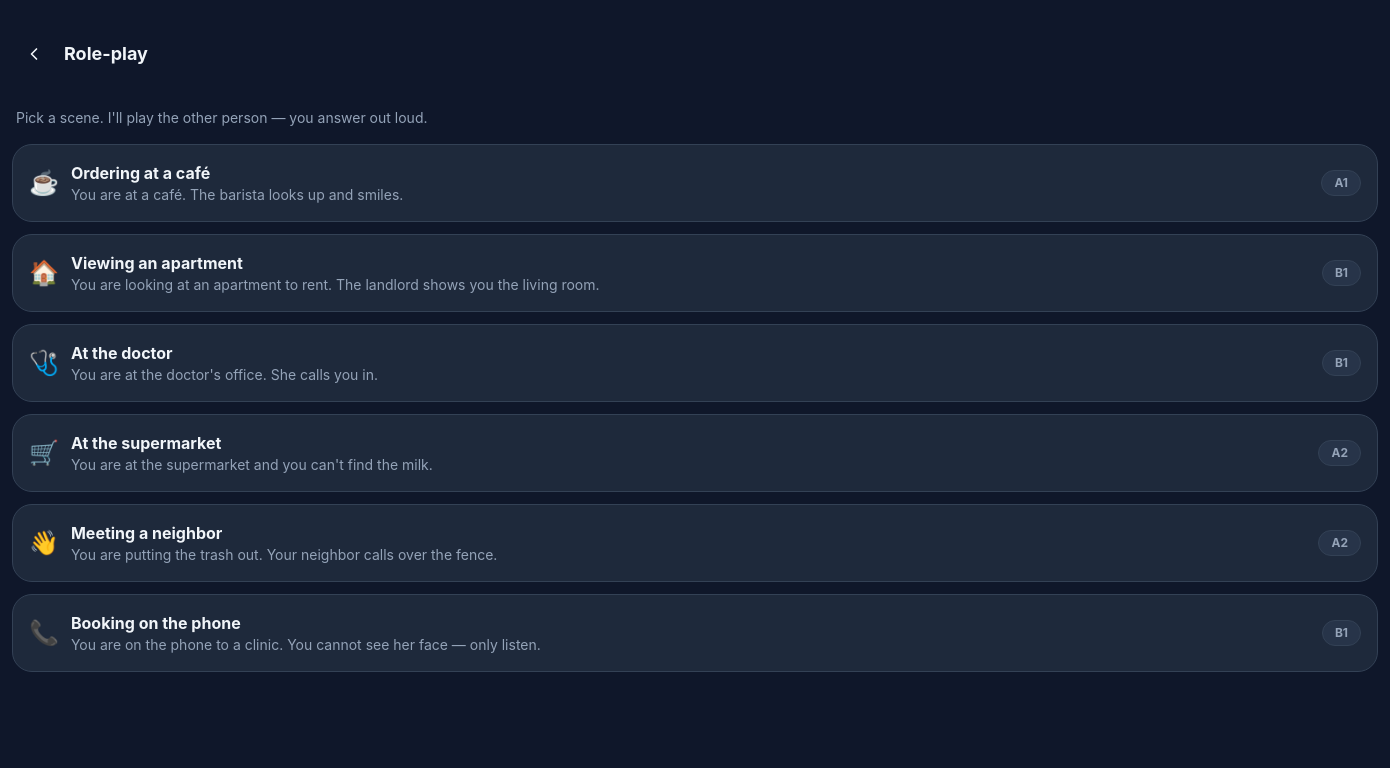
Role-play when she gets it wrong › offers a gentle retry, then reveals the English and lets her carry on
Click the button with test id "roleplay-cafe" at {"x": 141, "y": 173}, box [12,144,1378,222]
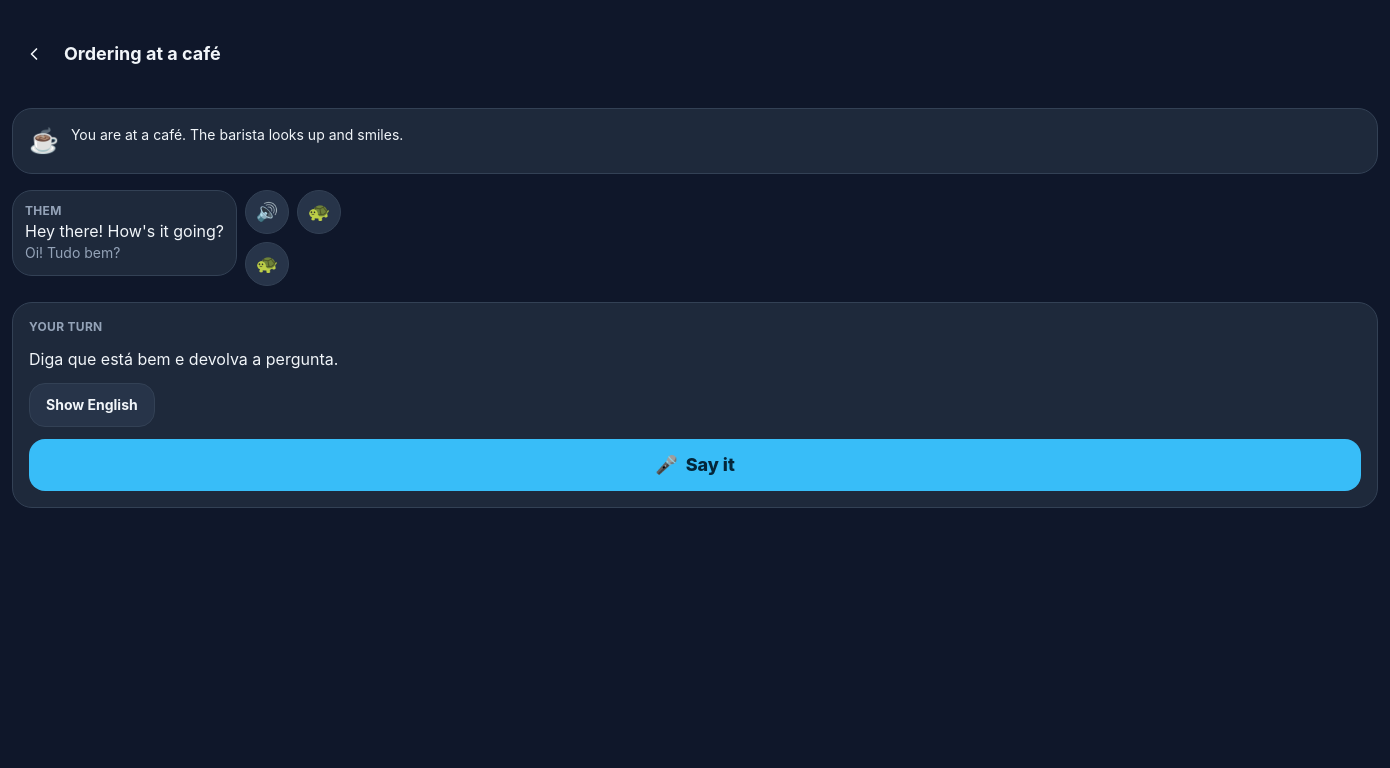
Click the button with test id "roleplay-say" at {"x": 695, "y": 465}, box [29,439,1361,491]
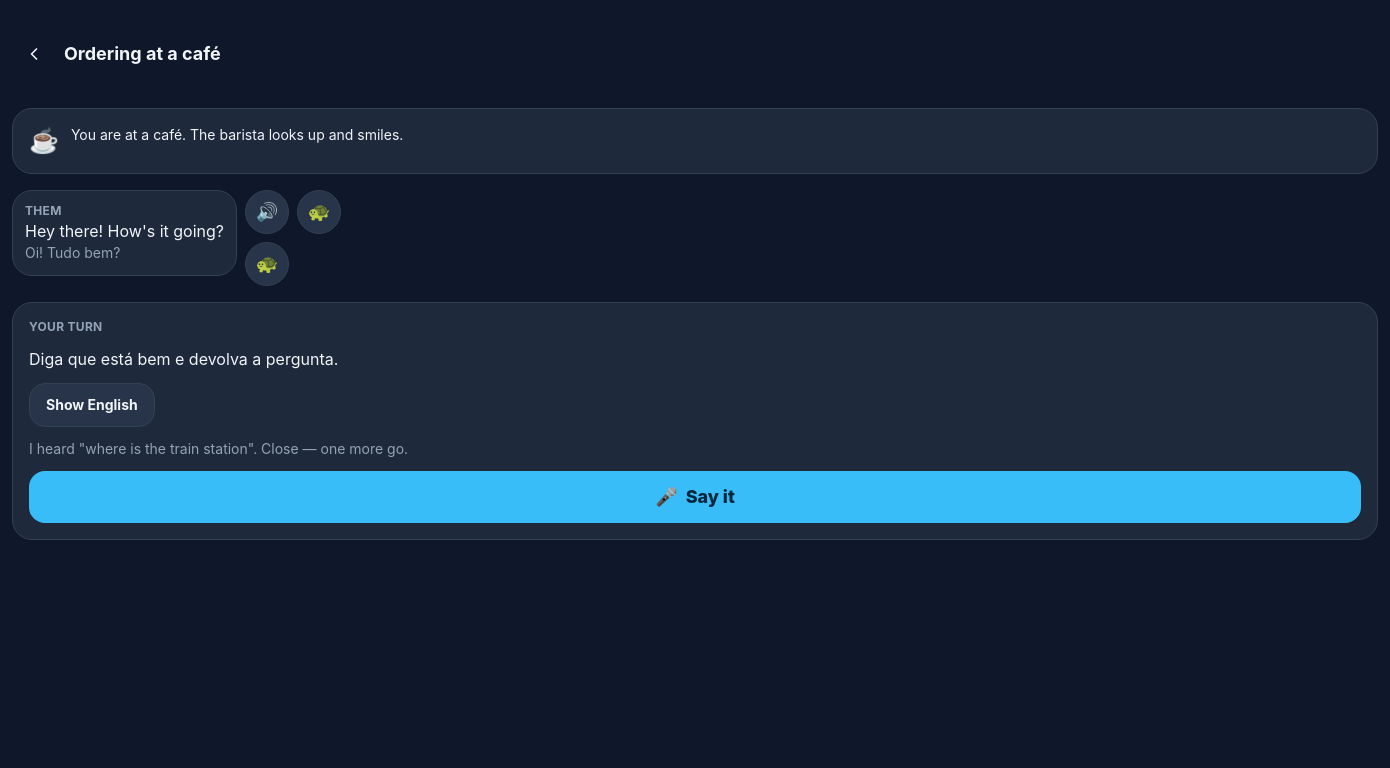
Now the button with test id "roleplay-say" is shown
Now the text "I heard \"where is the train station\". Close — one more go." is shown, box [29,440,408,457]
Click the button with test id "roleplay-say" at {"x": 695, "y": 497}, box [29,471,1361,523]
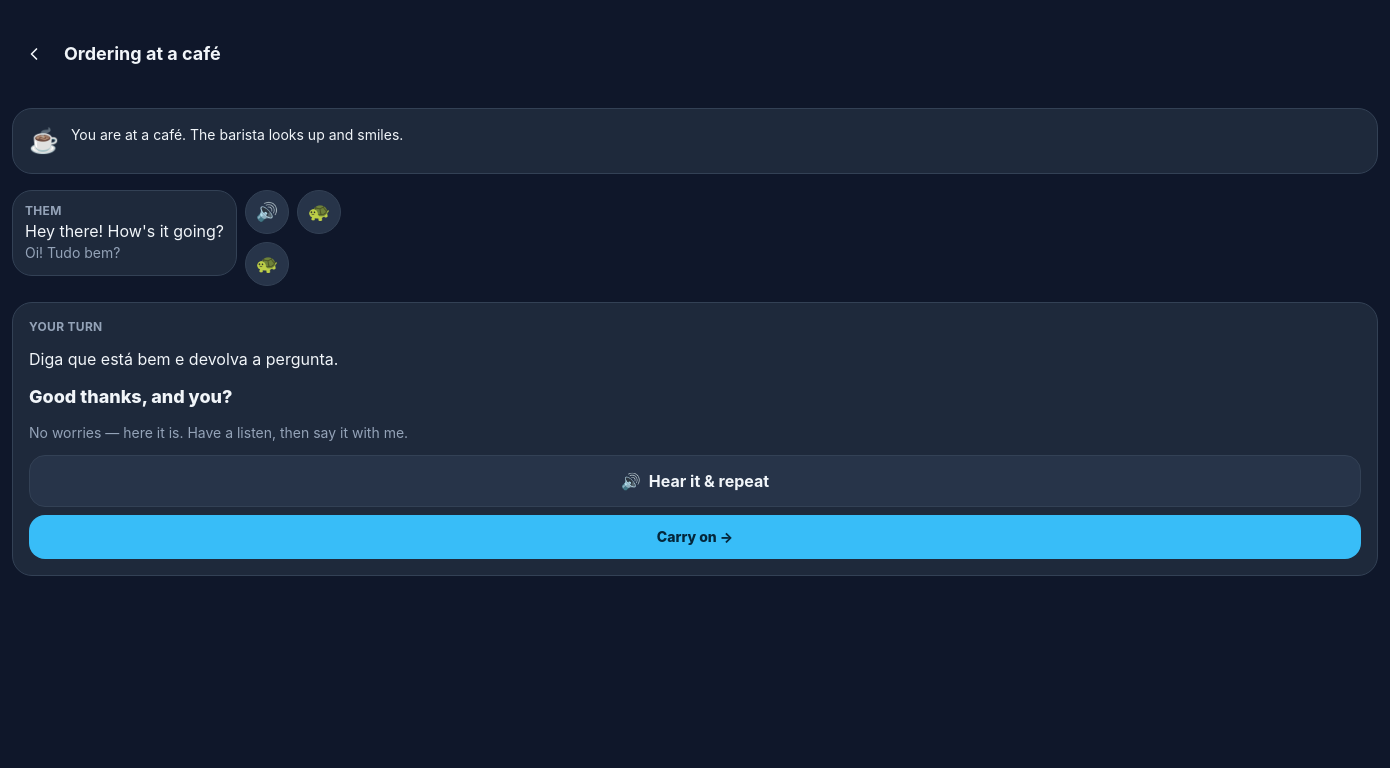
Now the text with test id "roleplay-target" reads "Good thanks, and you?", box [29,386,232,407]
Now the button with test id "roleplay-say" is gone
Click the button with test id "roleplay-hear-it" at {"x": 695, "y": 481}, box [29,455,1361,507]
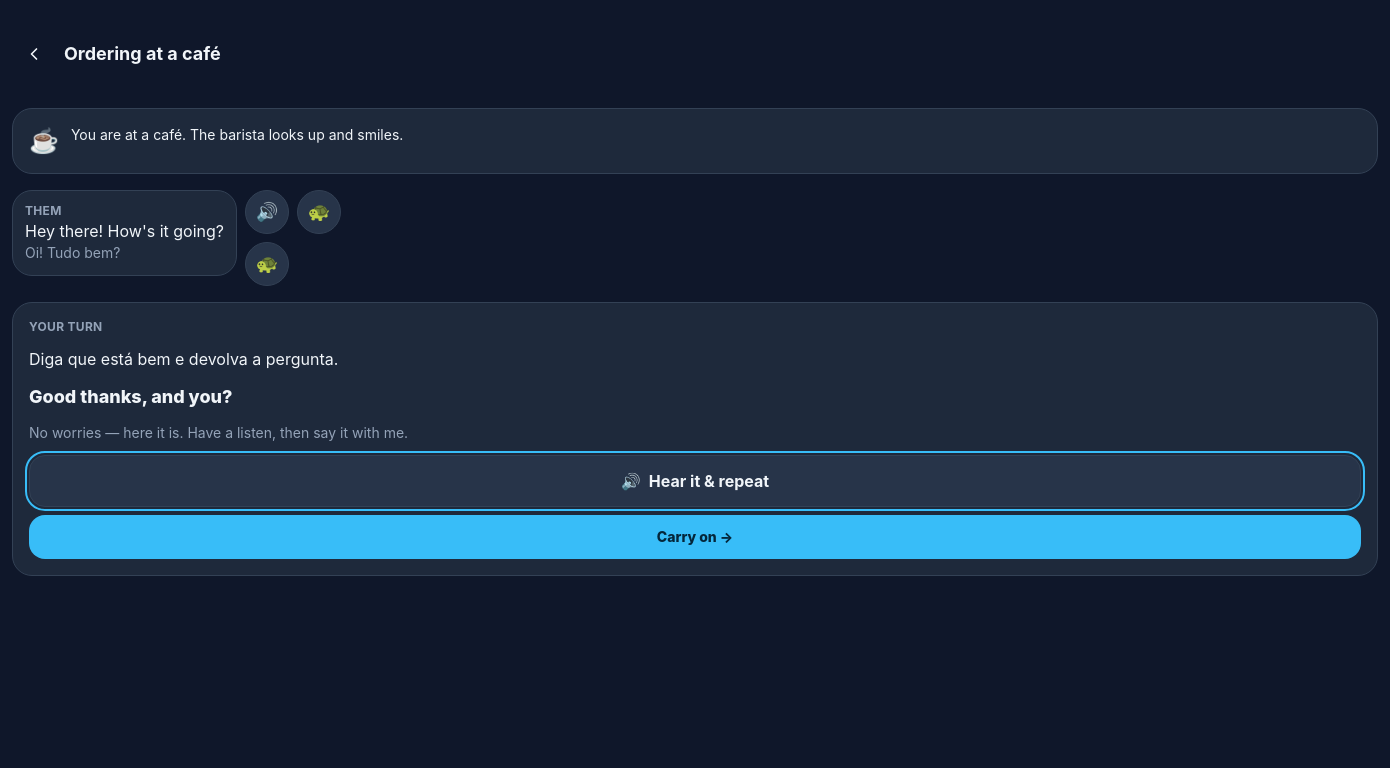
Click the button "Carry on →" at {"x": 695, "y": 537}, box [29,515,1361,559]
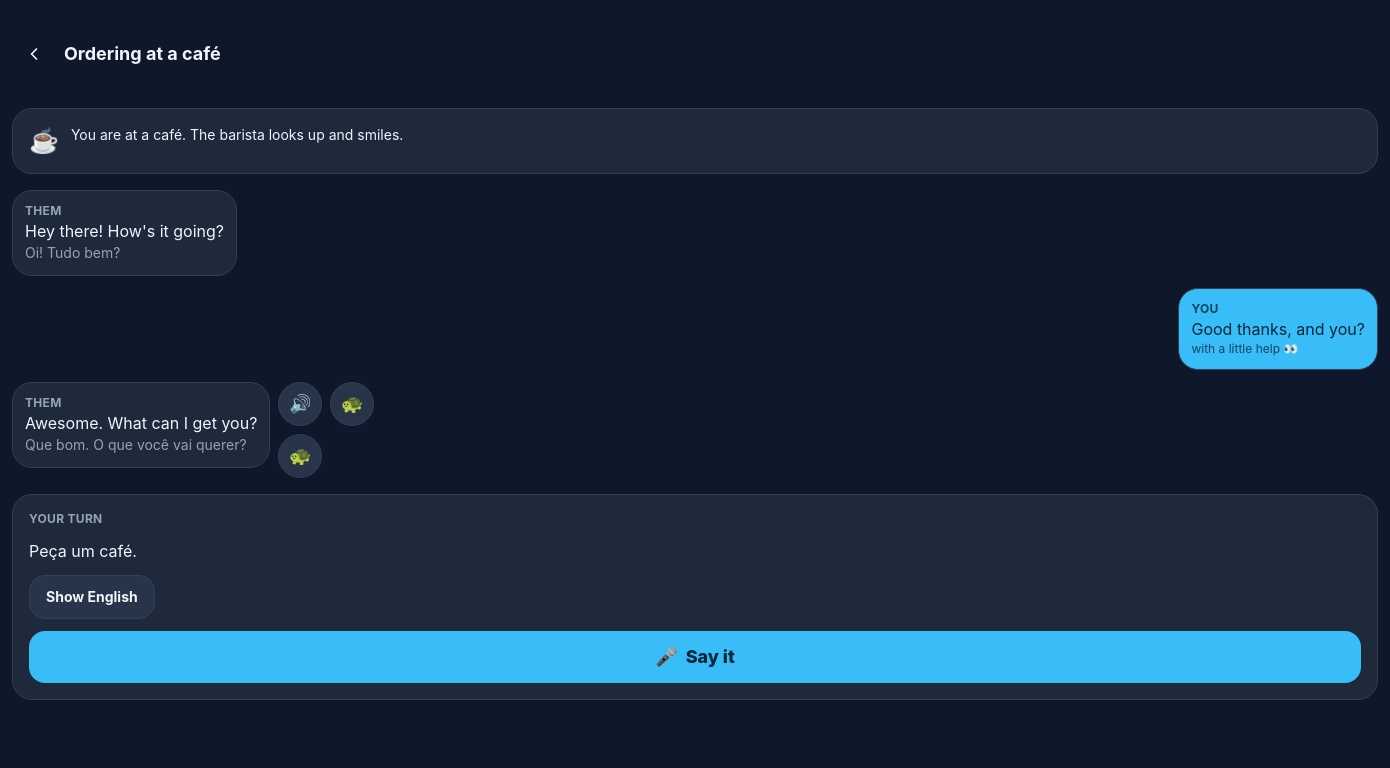
Now the text "Awesome. What can I get you?" is shown, box [25,411,257,435]
Now the button with test id "roleplay-say" is shown, box [29,631,1361,683]
